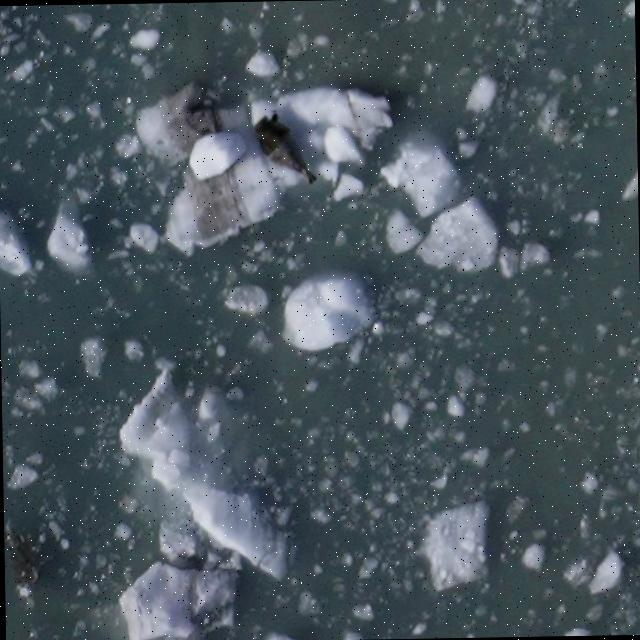seal: (246, 105, 317, 196)
